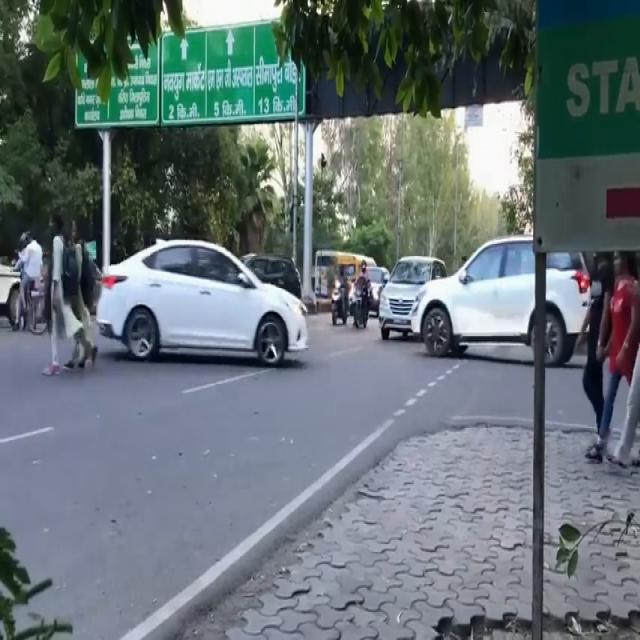MOTORCYCLE: (342, 284, 370, 328), (332, 281, 345, 326)
SED: (99, 244, 310, 368)
SUV: (414, 235, 592, 368)
